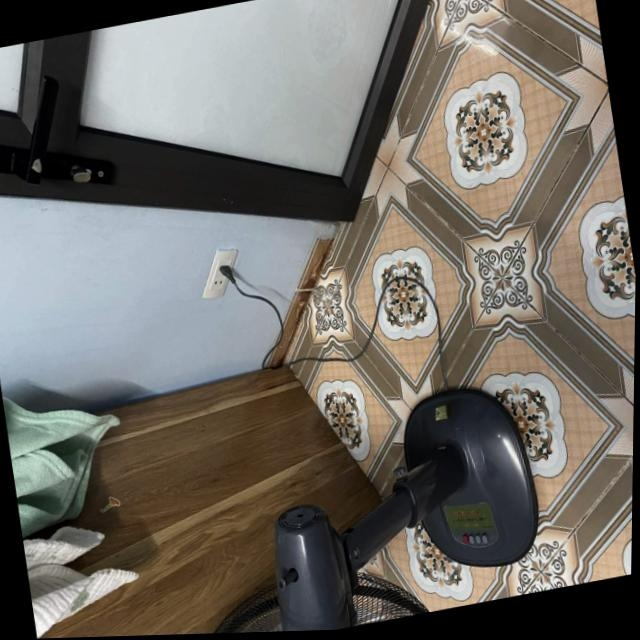outlet: (195, 244, 245, 301)
